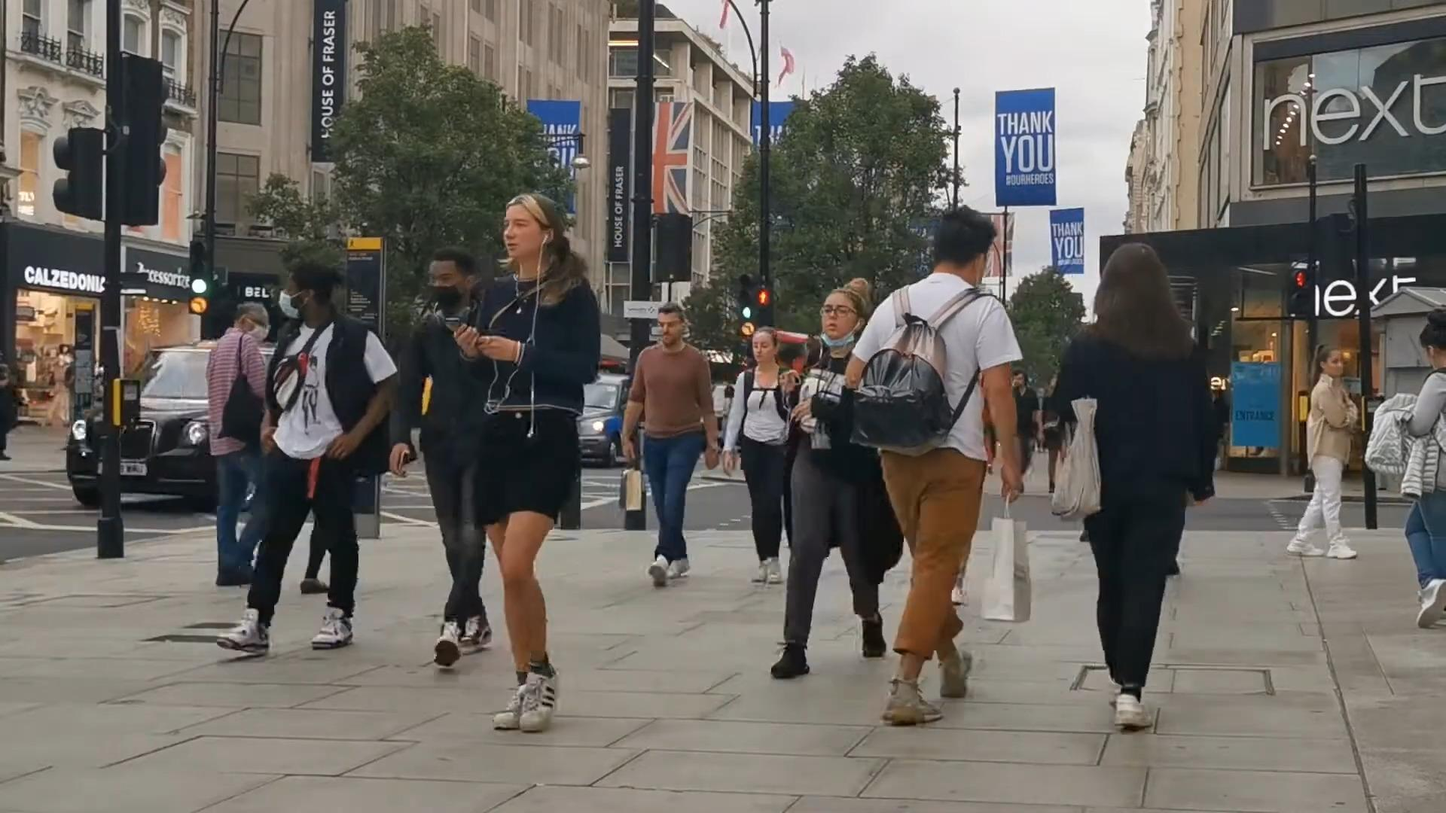no-helmet: (1094, 242, 1181, 328), (934, 204, 997, 287), (504, 192, 565, 259), (279, 257, 341, 320), (820, 278, 869, 348), (427, 247, 476, 310), (1419, 309, 1446, 370), (235, 302, 272, 342), (658, 301, 687, 347), (1311, 343, 1344, 378), (752, 325, 780, 362)
